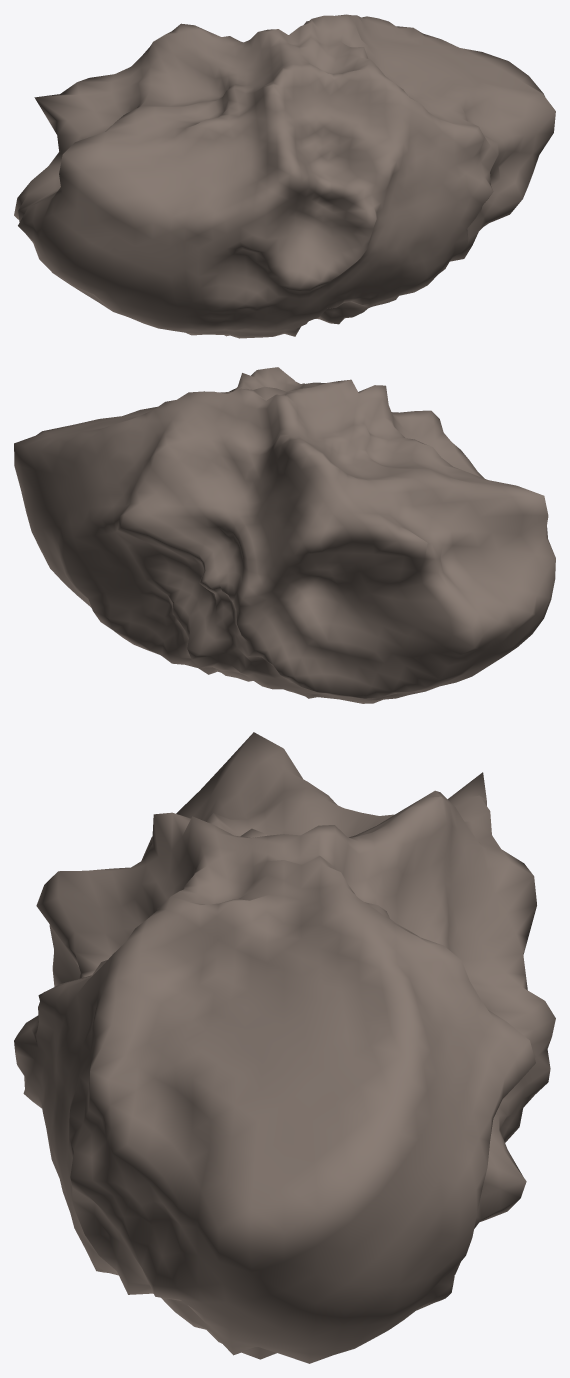
Rendered from Hektor.fbx.
The picture shows the model from 3 angles, top to bottom: view 1: azimuth 30°, elevation 25°; view 2: azimuth 150°, elevation 25°; view 3: azimuth 270°, elevation 25°; orthographic projection. The views are drawn at different scales.
Visible parts, largest first — view 1: HektorSurface; view 2: HektorSurface; view 3: HektorSurface.
Part boxes in pixels (x1=…): HektorSurface: x1=14, y1=14, x2=555, y2=338; HektorSurface: x1=14, y1=367, x2=555, y2=703; HektorSurface: x1=14, y1=732, x2=555, y2=1363.
Bounding box in the file's own units: 3.33 × 1.73 × 1.87.
